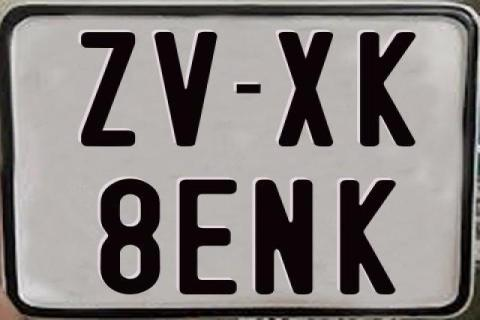0: (98, 177, 162, 295)
E: (179, 178, 243, 294)
K: (337, 178, 396, 296), (360, 31, 420, 146)
N: (253, 180, 315, 298)
V: (153, 30, 220, 146)
X: (276, 32, 331, 149)
Z: (79, 31, 134, 148)
